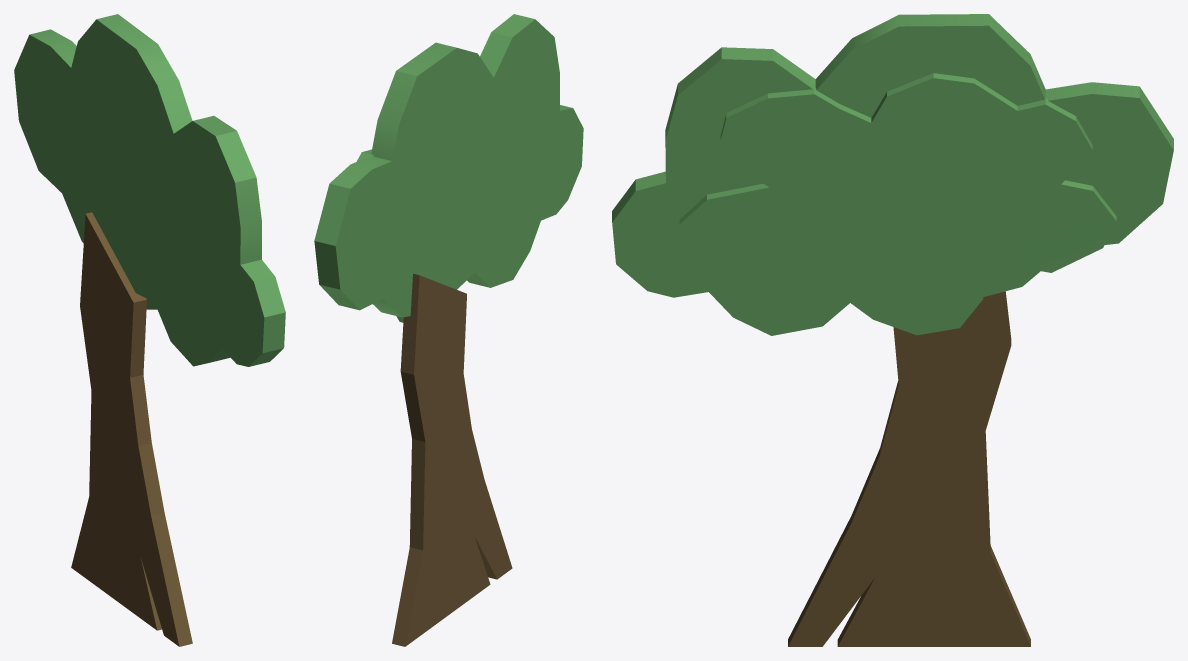
Rendered from Tree_002.fbx.
The picture shows the model from 3 angles, left to right: view 1: azimuth 30°, elevation 25°; view 2: azimuth 150°, elevation 25°; view 3: azimuth 270°, elevation 25°; orthographic projection. The views are drawn at different scales.
Parts seen in each view (by area): view 1: pCube7, Base1; view 2: pCube7, Base1; view 3: Bush_004, pCube7, Base1.
Part boxes in pixels (left/top/right/bottom): pCube7: left=14, top=14, right=285, bottom=366; Base1: left=71, top=212, right=192, bottom=646; pCube7: left=314, top=14, right=583, bottom=317; Base1: left=392, top=273, right=512, bottom=646; Bush_004: left=679, top=73, right=1116, bottom=335; pCube7: left=612, top=14, right=1173, bottom=335; Base1: left=788, top=291, right=1030, bottom=646.
Size of the model in its own units: 2.82 by 39.12 by 31.65.
